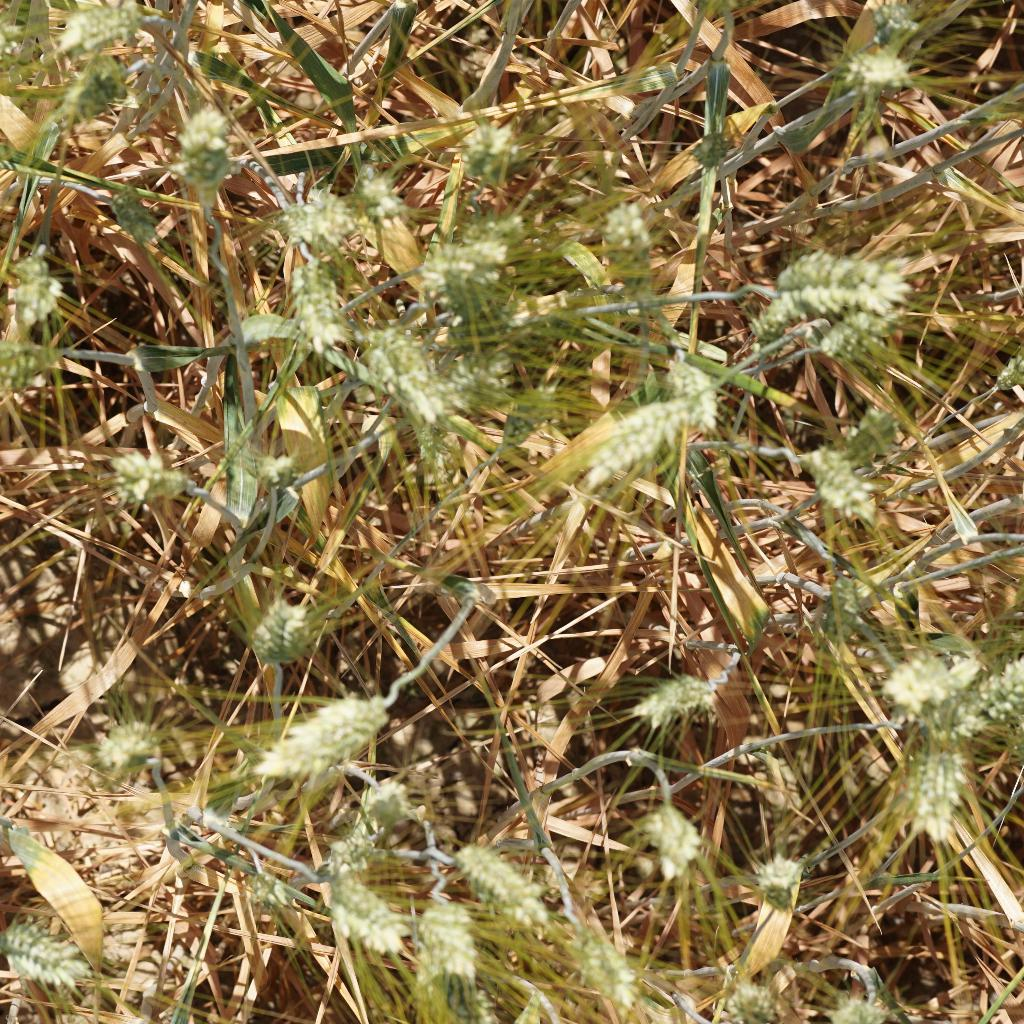0-0: (243, 661, 396, 784), (594, 388, 706, 496), (161, 96, 251, 223), (871, 619, 986, 713), (453, 836, 553, 937), (746, 280, 896, 346), (38, 51, 146, 138), (896, 731, 975, 848), (422, 885, 499, 1005), (789, 430, 885, 526), (0, 914, 108, 997), (314, 860, 403, 960), (292, 247, 366, 361), (791, 298, 904, 372), (770, 245, 909, 302), (564, 911, 643, 1005), (843, 40, 944, 111), (382, 335, 460, 426), (105, 441, 197, 518), (635, 661, 725, 735), (441, 107, 526, 178), (53, 0, 152, 60), (410, 240, 512, 298), (329, 149, 407, 224), (668, 346, 740, 426), (243, 593, 321, 666), (272, 179, 355, 247), (944, 666, 1024, 735), (817, 548, 875, 643), (632, 796, 697, 878), (4, 246, 71, 325), (96, 707, 165, 783), (748, 832, 807, 914), (452, 195, 539, 245), (804, 979, 899, 1024), (601, 198, 661, 269), (724, 963, 789, 1024), (357, 777, 421, 838), (466, 344, 520, 411), (0, 335, 52, 402), (245, 429, 299, 485), (249, 863, 294, 919), (856, 0, 929, 33), (748, 295, 804, 336)
